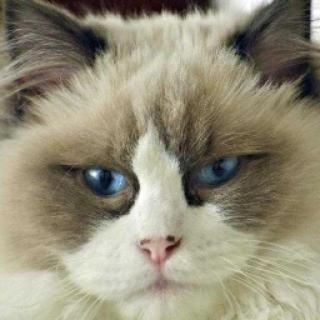cat: (18, 11, 314, 305)
nose: (125, 202, 199, 266)
